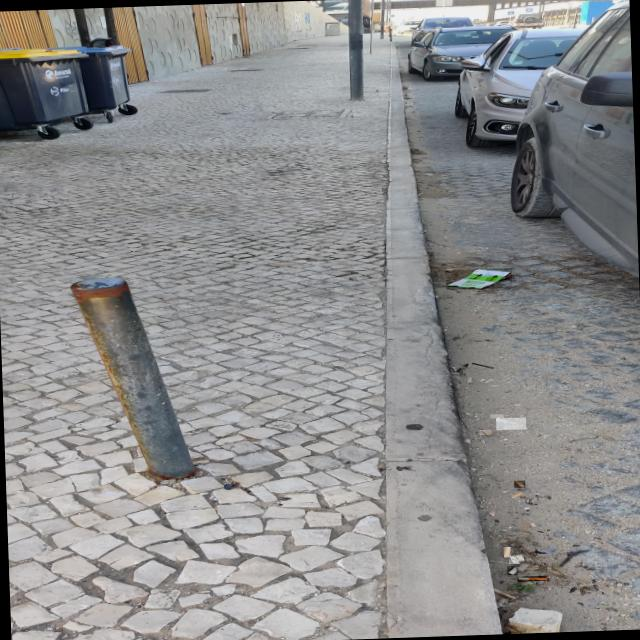Cigarette: (518, 577, 548, 580), (507, 566, 518, 574), (509, 492, 523, 498), (509, 555, 519, 563), (514, 554, 523, 562), (503, 547, 510, 557), (514, 481, 525, 487), (480, 430, 490, 434), (490, 415, 502, 418), (520, 523, 536, 525), (467, 377, 471, 382), (452, 367, 456, 370)
Other Carton: (446, 269, 512, 289)
Unlabeled litter: (496, 418, 526, 429), (403, 86, 411, 89)
